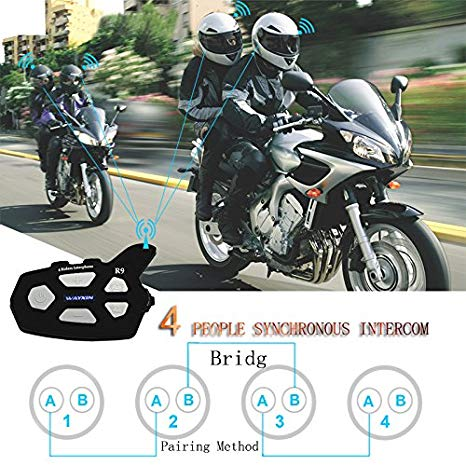helmet: (242, 11, 346, 118), (165, 6, 244, 66), (53, 59, 100, 111)
